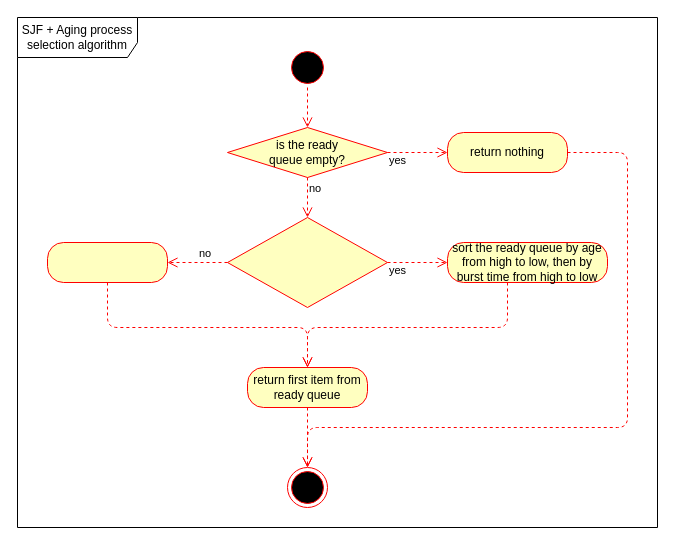
Image size: 675x545. Some labels were removed from this diagram. Each missing label, with the centre of its shape:
"is their any queue item with an age above the specified threshold" goes at (x=307, y=262).
"sort ready queue by process burst time from low to high" goes at (x=107, y=262).
